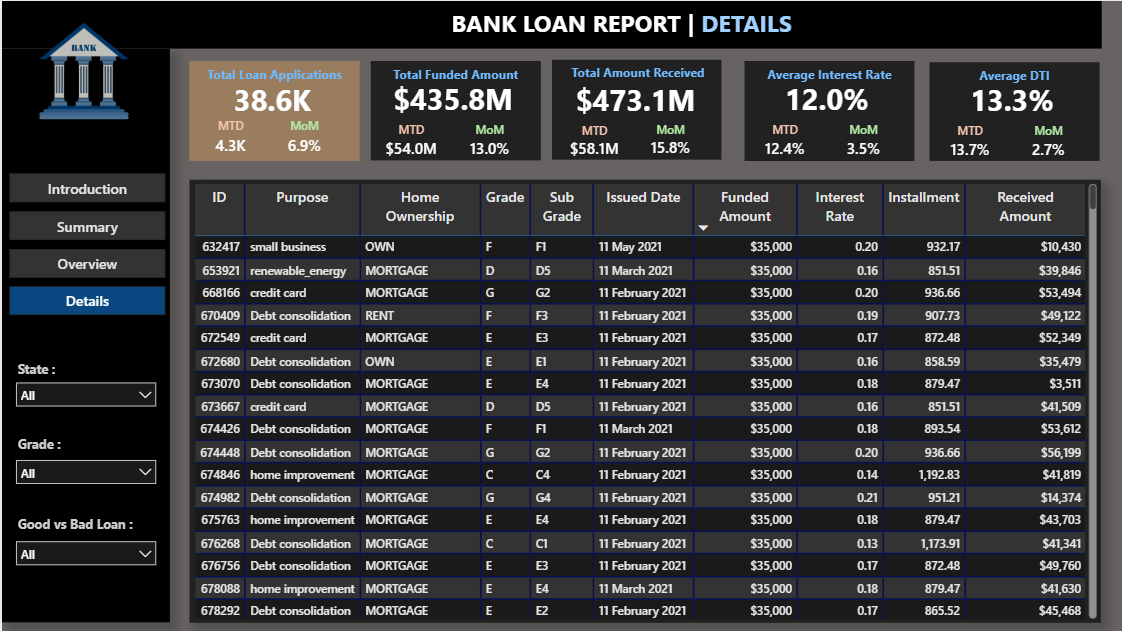

The page's visual inventory and layout, read from the dashboard file:
{"tool":"powerbi","page":{"name":"Details","canvas":[1280,720],"ordinal":3},"visuals":[{"type":"shape","box":[629.2,66.4,193.8,114.2],"z":0,"group":"g3"},{"type":"shape","box":[214.3,68.6,194.3,114.3],"z":0,"group":"g1"},{"type":"shape","box":[421.4,68.6,194.5,114],"z":0,"group":"g2"},{"type":"shape","box":[848.8,68.6,194.2,114.3],"z":0,"group":"g4"},{"type":"shape","box":[1059.3,69.8,194.5,113.1],"z":0,"group":"g5"},{"type":"shape","box":[214.7,203.7,1041.9,506.5],"z":0},{"type":"shape","box":[0,0,1257,54.7],"z":1000},{"type":"card","fields":{"Values":["table_measures.total_loan_appl"]},"box":[247.2,83.2,124.3,61.3],"z":1000,"group":"g1"},{"type":"card","fields":{"Values":["table_measures.total_funded_amt"]},"box":[433.2,83.2,165.9,58.4],"z":1000,"group":"g2"},{"type":"card","fields":{"Values":["table_measures.avg_interest_rate"]},"box":[860.6,83.2,165.6,58.6],"z":1000,"group":"g4"},{"type":"card","fields":{"Values":["table_measures.avg_DTI"]},"box":[1071.1,84.3,165.9,57.9],"z":1000,"group":"g5"},{"type":"card","fields":{"Values":["table_measures.total_received_amt"]},"box":[643.2,85.3,163.1,55.8],"z":1000,"group":"g3"},{"type":"shape","box":[0,54.7,191.9,655.8],"z":2000},{"type":"textbox","box":[632.2,67,191,41.6],"z":2000,"group":"g3"},{"type":"textbox","box":[214.3,68.6,194.3,39],"z":2000,"group":"g1"},{"type":"textbox","box":[421.4,68.6,194.5,38.9],"z":2000,"group":"g2"},{"type":"textbox","box":[848.8,68.6,194.2,39],"z":2000,"group":"g4"},{"type":"textbox","box":[1059.3,69.8,194.5,38.6],"z":2000,"group":"g5"},{"type":"card","title":"MTD","fields":{"Values":["table_measures.MTD_loan_appl"]},"box":[235.7,132.7,51.4,50.2],"z":3000,"group":"g1"},{"type":"card","title":"MTD","fields":{"Values":["table_measures.MTD_received_amt"]},"box":[643.2,137.1,68.9,46.5],"z":3000,"group":"g3"},{"type":"card","title":"MTD","fields":{"Values":["table_measures.MTD_funded_amt"]},"box":[433.2,137.4,70.1,48.6],"z":3000,"group":"g2"},{"type":"card","title":"MTD","fields":{"Values":["table_measures.MTD_interest_rate"]},"box":[860.6,137.6,70,48.8],"z":3000,"group":"g4"},{"type":"card","title":"MTD","fields":{"Values":["table_measures.MTD_avg_DTI"]},"box":[1071.1,138.1,70.1,48.3],"z":3000,"group":"g5"},{"type":"textbox","box":[12.4,406,119.7,38.5],"z":3000},{"type":"textbox","box":[509.2,1.4,447.3,49.5],"z":4000},{"type":"card","title":"MoM","fields":{"Values":["table_measures.MOM_loan_appl"]},"box":[320,132.7,51.4,50.2],"z":4000,"group":"g1"},{"type":"card","title":"MoM","fields":{"Values":["table_measures.MOM_received_amt"]},"box":[736.7,136.9,56.8,47.5],"z":4000,"group":"g3"},{"type":"card","title":"MoM","fields":{"Values":["table_measures.MOM_funded_amt"]},"box":[528.3,137.2,57.8,49.7],"z":4000,"group":"g2"},{"type":"card","title":"MoM","fields":{"Values":["table_measures.MOM_interest_rate"]},"box":[955.6,137.4,57.7,49.8],"z":4000,"group":"g4"},{"type":"card","title":"MoM","fields":{"Values":["table_measures.MOM_avg_DTI"]},"box":[1166.2,137.9,57.8,49.3],"z":4000,"group":"g5"},{"type":"group","id":"g1","title":"Group 1","box":[214.3,68.6,194.3,114.3],"z":5000},{"type":"group","id":"g2","title":"Group 1","box":[421.4,68.6,194.3,118],"z":6000},{"type":"group","id":"g3","title":"Group 1","box":[629.2,66.4,194,118],"z":7000},{"type":"group","id":"g4","title":"Group 1","box":[848.8,68.6,194.2,118.6],"z":8000},{"type":"group","id":"g5","title":"Group 1","box":[1059.3,69.8,194.2,117.4],"z":9000},{"type":"slicer","fields":{"Values":["financial_loan.address_state"]},"box":[5.5,425.3,180.3,50.9],"z":10000},{"type":"slicer","fields":{"Values":["financial_loan.grade"]},"box":[5.5,514.8,180.3,50.9],"z":11000},{"type":"textbox","box":[12.4,491.4,119.7,38.5],"z":12000},{"type":"slicer","fields":{"Values":["financial_loan.Good vs Band Loan"]},"box":[5.5,607,180.3,50.9],"z":13000},{"type":"textbox","box":[12.4,583.6,163.8,38.5],"z":14000},{"type":"tableEx","fields":{"Values":["financial_loan.id","financial_loan.purpose","financial_loan.home_ownership","financial_loan.grade","financial_loan.sub_grade","financial_loan.issue_date","table_measures.total_funded_amt","Sum(financial_loan.int_rate)","Sum(financial_loan.installment)","table_measures.total_received_amt"]},"box":[214.7,203.7,1041.9,506.5],"z":15000},{"type":"pageNavigator","box":[8.3,196.8,178.9,163.8],"z":16000},{"type":"image","box":[0,1.4,187.2,156.9],"z":17000}]}

Visuals, with their boxes in screenshot pixels (x1, y1, x2, y2), scaled from the page's 1280x720 canvas onto the 1122x631 screenshot:
shape: 552,58,721,158
shape: 188,60,358,160
shape: 369,60,540,160
shape: 744,60,914,160
shape: 929,61,1099,160
shape: 188,179,1101,622
shape: 0,0,1102,48
card - table_measures.total_loan_appl: 217,73,326,127
card - table_measures.total_funded_amt: 380,73,525,124
card - table_measures.avg_interest_rate: 754,73,900,124
card - table_measures.avg_DTI: 939,74,1084,125
card - table_measures.total_received_amt: 564,75,707,124
shape: 0,48,168,623
textbox: 554,59,722,95
textbox: 188,60,358,94
textbox: 369,60,540,94
textbox: 744,60,914,94
textbox: 929,61,1099,95
"MTD" card: 207,116,252,160
"MTD" card: 564,120,624,161
"MTD" card: 380,120,441,163
"MTD" card: 754,121,816,163
"MTD" card: 939,121,1000,163
textbox: 11,356,116,390
textbox: 446,1,838,45
"MoM" card: 280,116,326,160
"MoM" card: 646,120,696,162
"MoM" card: 463,120,514,164
"MoM" card: 838,120,888,164
"MoM" card: 1022,121,1073,164
"Group 1" group: 188,60,358,160
"Group 1" group: 369,60,540,164
"Group 1" group: 552,58,722,162
"Group 1" group: 744,60,914,164
"Group 1" group: 929,61,1099,164
slicer - financial_loan.address_state: 5,373,163,417
slicer - financial_loan.grade: 5,451,163,496
textbox: 11,431,116,464
slicer - financial_loan.Good vs Band Loan: 5,532,163,577
textbox: 11,511,154,545
tableEx - financial_loan.id x financial_loan.purpose: 188,179,1101,622
pageNavigator: 7,172,164,316
image: 0,1,164,139
